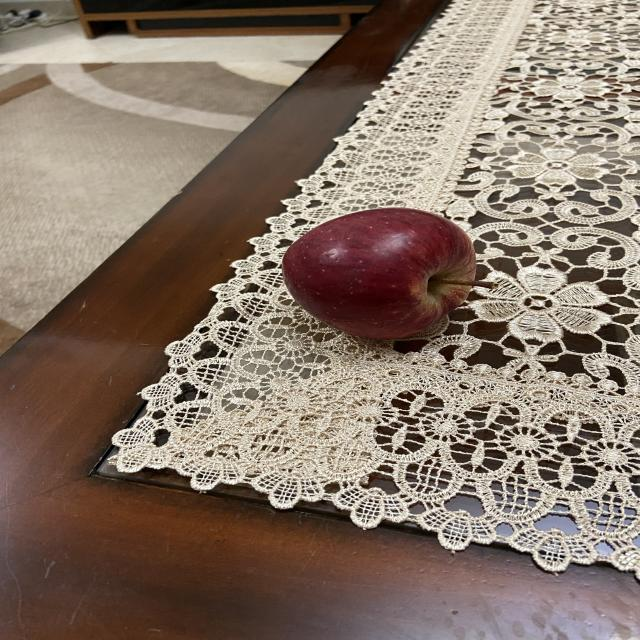apple: (280, 202, 510, 346)
